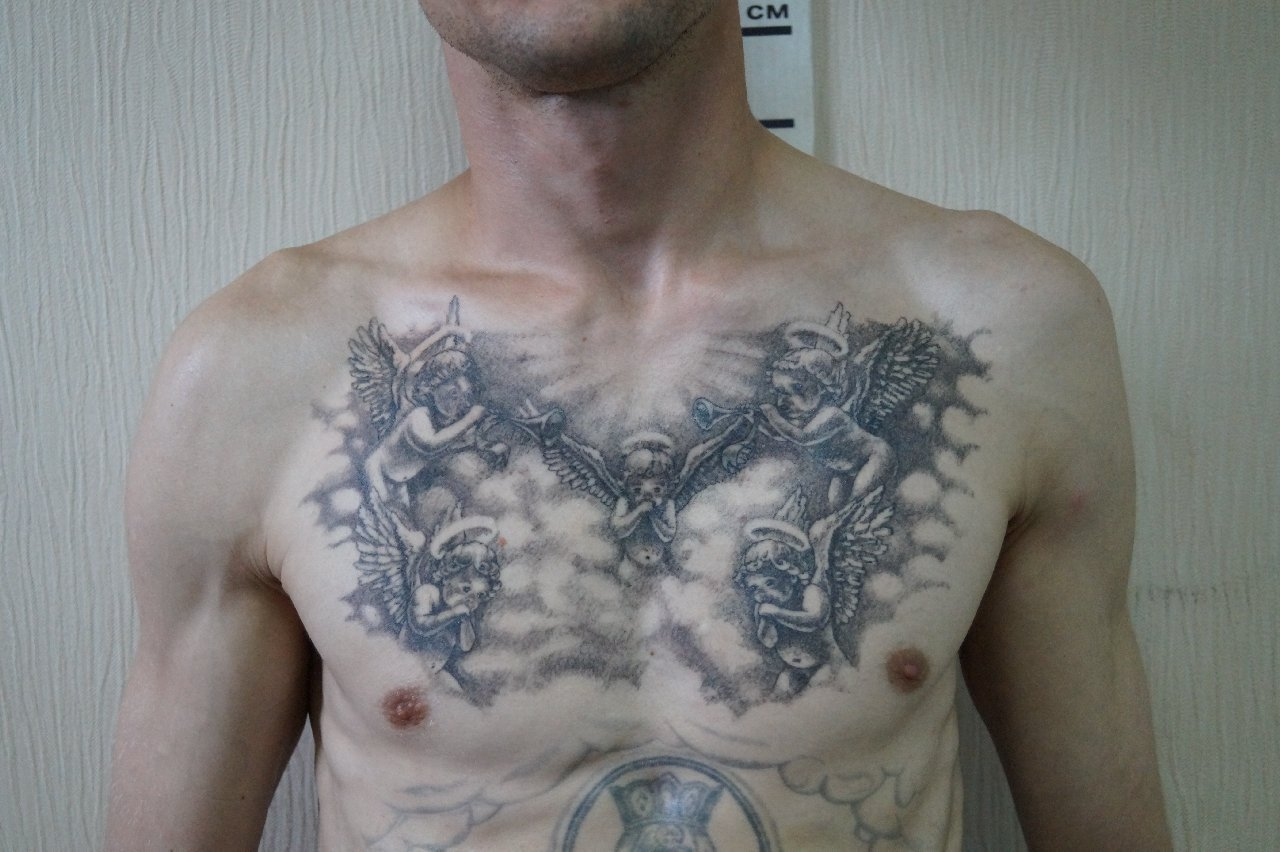tatu1_angel: (719, 302, 943, 620), (488, 383, 794, 582), (354, 268, 523, 595)
